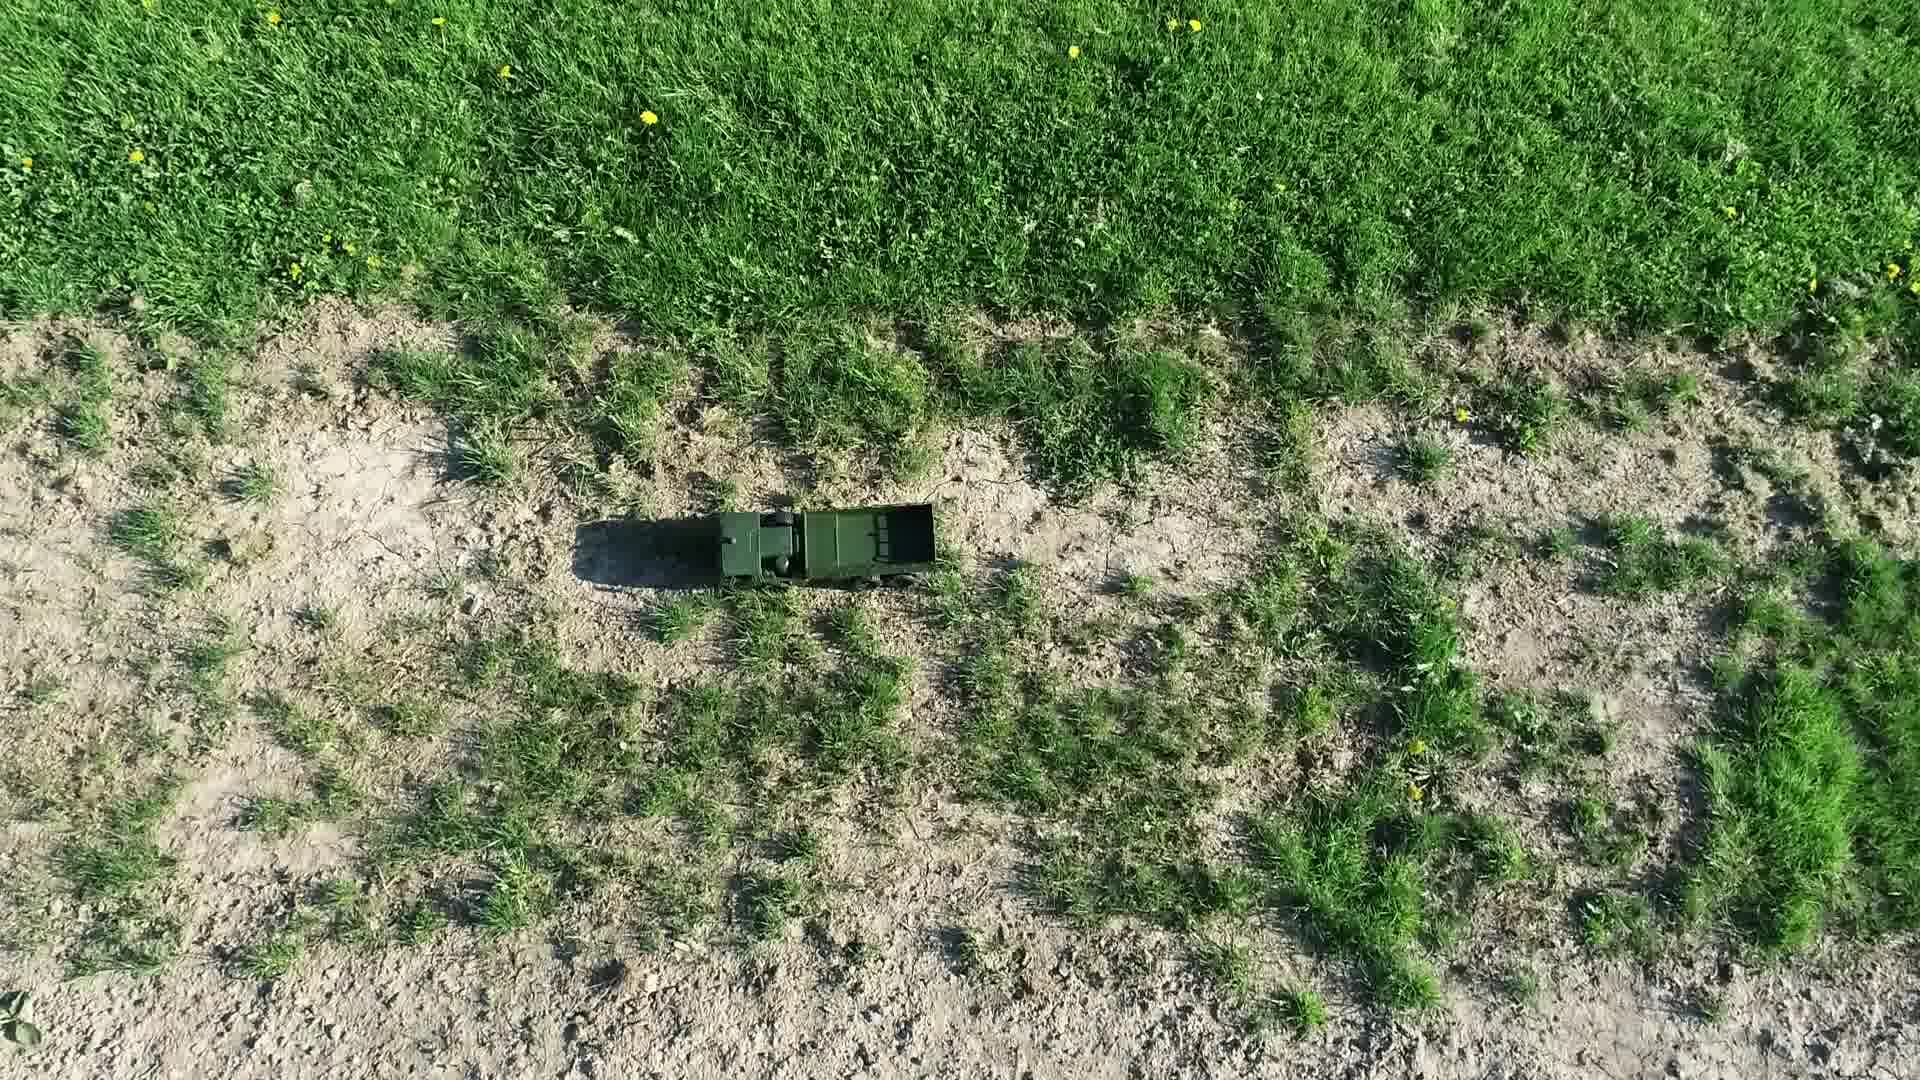transporter9: (707, 485, 948, 601)
